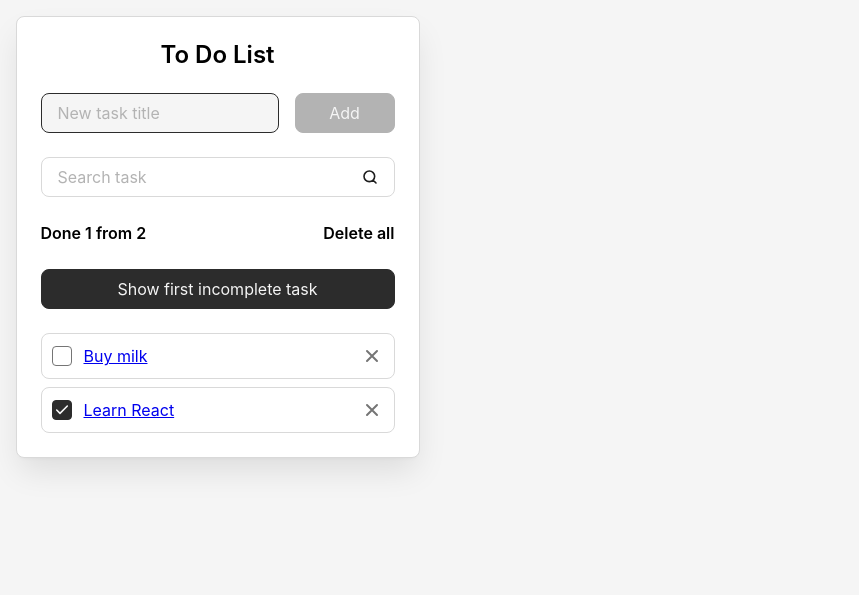
Test: Todo › keeps a task and shows an error when deleting fails
This screenshot has width=859, height=595.
Expected: the list item "Buy milk" is shown, [40,333,394,379]
Click the button named "Delete" in the row of "Buy milk": (372, 356) [350,334,394,378]
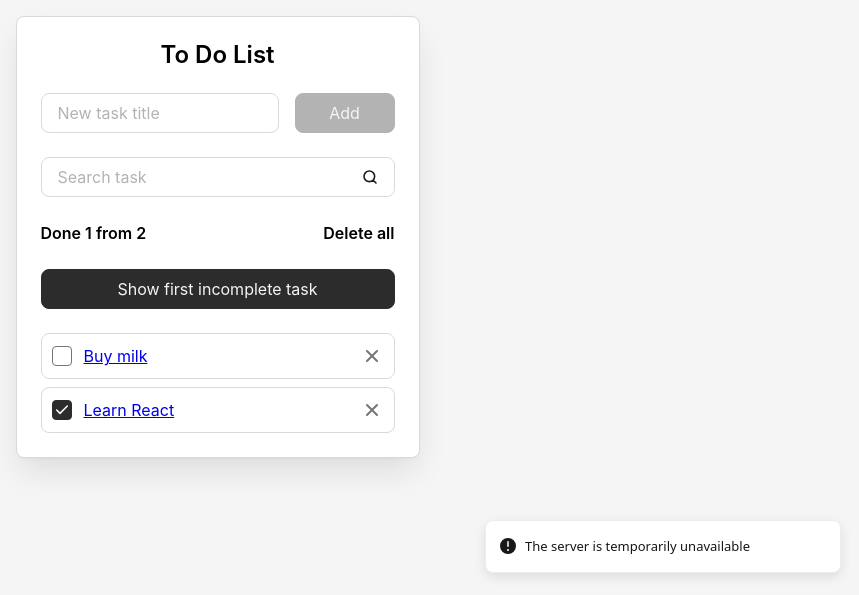
Expected: the checkbox named "Buy milk" next to "Buy milk" is shown, [52,346,72,366]
Now the text "The server is temporarily unavailable" is shown, box [525,536,750,556]
